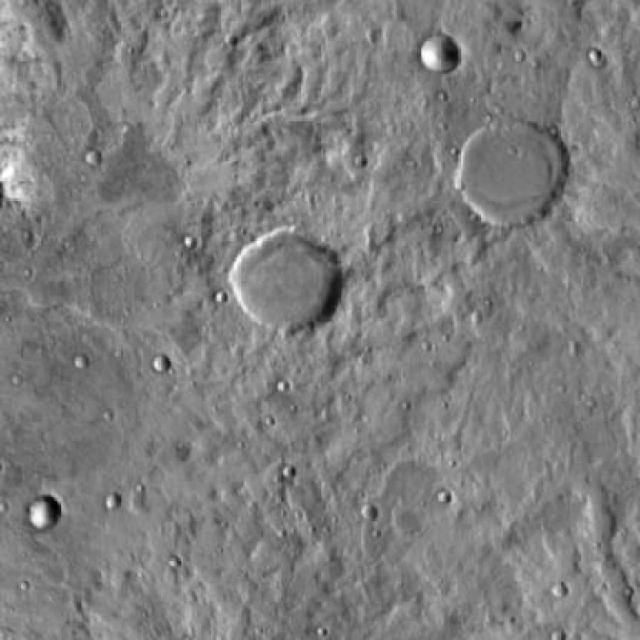crater: (457, 114, 572, 228), (238, 232, 342, 334), (421, 31, 465, 74), (31, 498, 60, 527), (154, 354, 169, 372), (106, 492, 122, 508), (364, 505, 379, 521)
